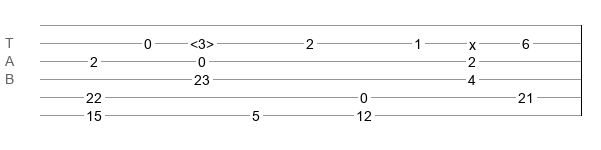0: (144, 36, 152, 46), (198, 54, 206, 64), (360, 90, 368, 100)
1: (414, 36, 422, 46)
12: (356, 108, 372, 118)
15: (86, 108, 102, 118)
2: (90, 54, 98, 64), (306, 36, 314, 46), (468, 54, 476, 64)
21: (518, 90, 534, 100)
22: (86, 90, 102, 100)
23: (194, 72, 210, 82)
4: (468, 72, 476, 82)
5: (252, 108, 260, 118)
6: (522, 36, 530, 46)
harmonic: (190, 36, 214, 46)
x: (469, 37, 476, 45)
